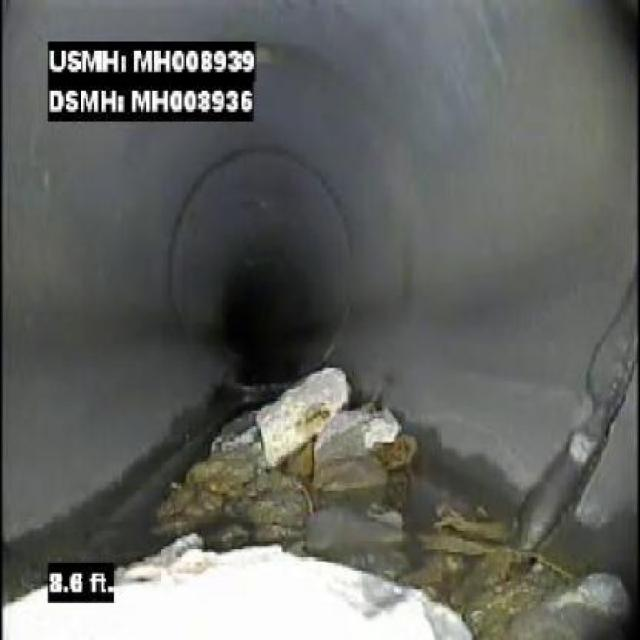Obstacle: (122, 340, 460, 528)
